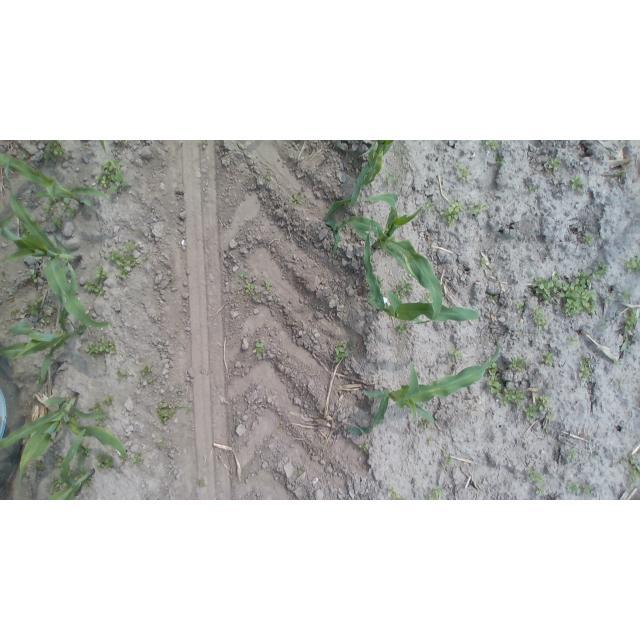Maize: (0, 161, 114, 331), (347, 335, 501, 437), (323, 193, 443, 321), (0, 392, 132, 501), (349, 222, 479, 324), (0, 261, 88, 384), (325, 140, 397, 256), (1, 152, 118, 208), (46, 429, 97, 500), (98, 140, 109, 158)
Weeds: (528, 270, 598, 318), (615, 304, 640, 365), (95, 158, 131, 194), (108, 242, 140, 281), (156, 388, 184, 424), (84, 267, 108, 296), (440, 201, 465, 228), (86, 338, 118, 357), (622, 454, 640, 486), (41, 141, 67, 162), (487, 364, 502, 398), (502, 386, 527, 405), (26, 298, 44, 320), (578, 355, 593, 381), (487, 360, 499, 392), (395, 280, 413, 301), (96, 452, 115, 471), (241, 280, 258, 301), (567, 482, 594, 495), (335, 340, 350, 362), (532, 318, 548, 338), (453, 162, 469, 181), (508, 357, 528, 372), (623, 256, 640, 273), (62, 199, 78, 217), (571, 175, 586, 194), (42, 304, 56, 324), (527, 469, 545, 484), (42, 200, 57, 218), (536, 393, 550, 411), (141, 365, 154, 384), (469, 202, 488, 215), (50, 477, 66, 492), (382, 169, 397, 185), (428, 486, 445, 500), (487, 361, 499, 380), (540, 351, 554, 367), (523, 404, 537, 420), (253, 341, 265, 358), (356, 440, 370, 454), (595, 262, 609, 276), (448, 349, 464, 361), (481, 140, 500, 150), (52, 215, 64, 230), (583, 232, 596, 245), (26, 270, 39, 283), (548, 158, 561, 171), (79, 444, 92, 457), (289, 195, 304, 206), (614, 170, 627, 182), (619, 289, 631, 302), (71, 471, 85, 482), (54, 454, 65, 468), (388, 489, 402, 500), (133, 451, 144, 465), (419, 417, 429, 432), (20, 225, 32, 237), (116, 370, 129, 381), (424, 200, 435, 213), (497, 154, 507, 167), (423, 291, 433, 304), (89, 403, 103, 412), (604, 293, 615, 304), (568, 336, 580, 346), (567, 447, 576, 460), (528, 184, 539, 194), (396, 323, 407, 333), (104, 395, 115, 405), (35, 374, 45, 385), (443, 455, 453, 466), (36, 461, 47, 471), (9, 308, 20, 318), (83, 479, 92, 490), (95, 417, 108, 424), (262, 282, 272, 291), (197, 479, 206, 489), (517, 301, 526, 311), (22, 151, 31, 160), (120, 454, 129, 463), (375, 275, 383, 285), (480, 257, 488, 267), (294, 467, 302, 476), (158, 442, 166, 451), (427, 437, 435, 446), (199, 140, 208, 148), (240, 271, 249, 279), (487, 295, 497, 302), (546, 414, 554, 422), (536, 489, 545, 496), (265, 174, 272, 182), (169, 275, 177, 282), (601, 322, 608, 330), (8, 295, 16, 302), (544, 427, 553, 433), (619, 378, 624, 388), (143, 253, 150, 260), (33, 219, 40, 226), (114, 140, 124, 144), (273, 300, 279, 305)
